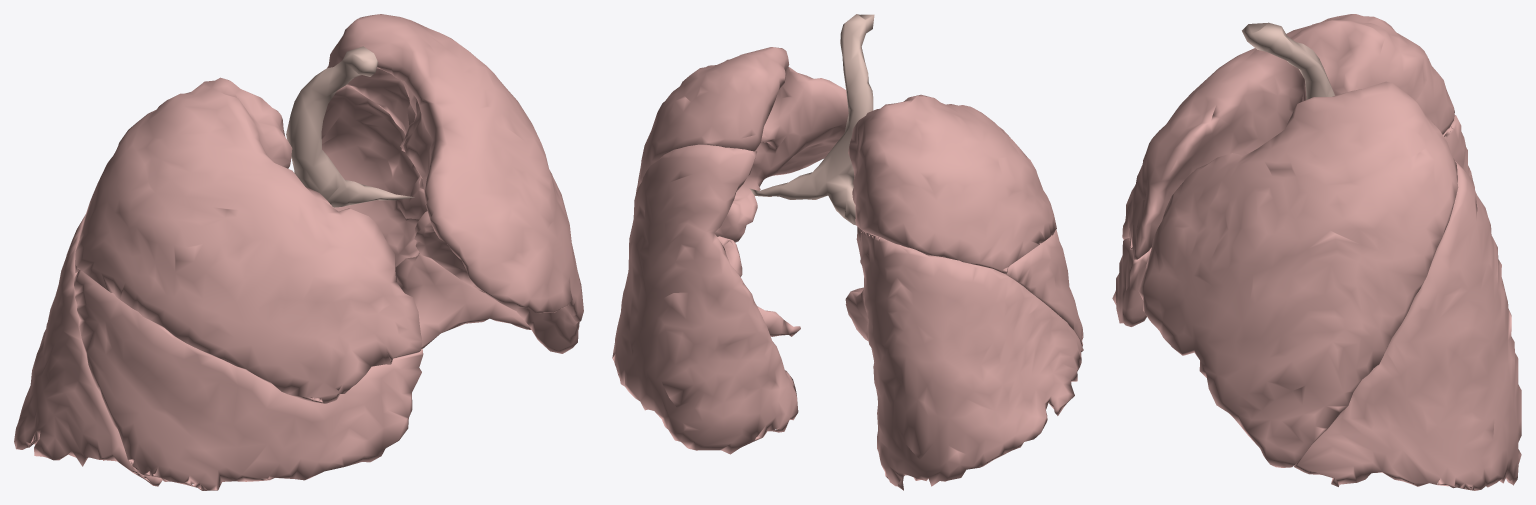
File: tsd_s0196_older_adult_female.respiratory.LOD3.glb
3 views of the same model, side by side, from view 1: azimuth 30°, elevation 25°; view 2: azimuth 150°, elevation 25°; view 3: azimuth 270°, elevation 25° (orthographic). The views are drawn at different scales.
Parts seen in each view (by area): view 1: TSD_S0196.OLDER_ADULT.FEMALE.RESPIRATORY.SUPERIOR_LOBE_OF_RI, TSD_S0196.OLDER_ADULT.FEMALE.RESPIRATORY.SUPERIOR_LOBE_OF_LE, TSD_S0196.OLDER_ADULT.FEMALE.RESPIRATORY.MIDDLE_LOBE_OF_RIGH, TSD_S0196.OLDER_ADULT.FEMALE.RESPIRATORY.INFERIOR_LOBE_OF_LE, TSD_S0196.OLDER_ADULT.FEMALE.RESPIRATORY.INFERIOR_LOBE_OF_RI, TSD_S0196.OLDER_ADULT.FEMALE.RESPIRATORY.TRACHEA; view 2: TSD_S0196.OLDER_ADULT.FEMALE.RESPIRATORY.INFERIOR_LOBE_OF_RI, TSD_S0196.OLDER_ADULT.FEMALE.RESPIRATORY.INFERIOR_LOBE_OF_LE, TSD_S0196.OLDER_ADULT.FEMALE.RESPIRATORY.SUPERIOR_LOBE_OF_RI, TSD_S0196.OLDER_ADULT.FEMALE.RESPIRATORY.SUPERIOR_LOBE_OF_LE, TSD_S0196.OLDER_ADULT.FEMALE.RESPIRATORY.TRACHEA, TSD_S0196.OLDER_ADULT.FEMALE.RESPIRATORY.MIDDLE_LOBE_OF_RIGH; view 3: TSD_S0196.OLDER_ADULT.FEMALE.RESPIRATORY.SUPERIOR_LOBE_OF_LE, TSD_S0196.OLDER_ADULT.FEMALE.RESPIRATORY.INFERIOR_LOBE_OF_LE, TSD_S0196.OLDER_ADULT.FEMALE.RESPIRATORY.SUPERIOR_LOBE_OF_RI, TSD_S0196.OLDER_ADULT.FEMALE.RESPIRATORY.TRACHEA, TSD_S0196.OLDER_ADULT.FEMALE.RESPIRATORY.MIDDLE_LOBE_OF_RIGH, TSD_S0196.OLDER_ADULT.FEMALE.RESPIRATORY.INFERIOR_LOBE_OF_RI.
Part boxes in pixels (box(x1,y1,x2,y2)): TSD_S0196.OLDER_ADULT.FEMALE.RESPIRATORY.SUPERIOR_LOBE_OF_RI: box(75, 77, 422, 403); TSD_S0196.OLDER_ADULT.FEMALE.RESPIRATORY.SUPERIOR_LOBE_OF_LE: box(327, 14, 583, 353); TSD_S0196.OLDER_ADULT.FEMALE.RESPIRATORY.MIDDLE_LOBE_OF_RIGH: box(74, 270, 423, 490); TSD_S0196.OLDER_ADULT.FEMALE.RESPIRATORY.INFERIOR_LOBE_OF_LE: box(321, 85, 531, 348); TSD_S0196.OLDER_ADULT.FEMALE.RESPIRATORY.INFERIOR_LOBE_OF_RI: box(14, 214, 162, 486); TSD_S0196.OLDER_ADULT.FEMALE.RESPIRATORY.TRACHEA: box(286, 46, 414, 207); TSD_S0196.OLDER_ADULT.FEMALE.RESPIRATORY.INFERIOR_LOBE_OF_RI: box(845, 226, 1083, 490); TSD_S0196.OLDER_ADULT.FEMALE.RESPIRATORY.INFERIOR_LOBE_OF_LE: box(612, 144, 800, 454); TSD_S0196.OLDER_ADULT.FEMALE.RESPIRATORY.SUPERIOR_LOBE_OF_RI: box(848, 94, 1056, 273); TSD_S0196.OLDER_ADULT.FEMALE.RESPIRATORY.SUPERIOR_LOBE_OF_LE: box(636, 47, 848, 242); TSD_S0196.OLDER_ADULT.FEMALE.RESPIRATORY.TRACHEA: box(749, 14, 874, 224); TSD_S0196.OLDER_ADULT.FEMALE.RESPIRATORY.MIDDLE_LOBE_OF_RIGH: box(1003, 230, 1083, 347); TSD_S0196.OLDER_ADULT.FEMALE.RESPIRATORY.SUPERIOR_LOBE_OF_LE: box(1138, 81, 1458, 467); TSD_S0196.OLDER_ADULT.FEMALE.RESPIRATORY.INFERIOR_LOBE_OF_LE: box(1294, 161, 1521, 490); TSD_S0196.OLDER_ADULT.FEMALE.RESPIRATORY.SUPERIOR_LOBE_OF_RI: box(1122, 14, 1454, 259); TSD_S0196.OLDER_ADULT.FEMALE.RESPIRATORY.TRACHEA: box(1242, 22, 1335, 99); TSD_S0196.OLDER_ADULT.FEMALE.RESPIRATORY.MIDDLE_LOBE_OF_RIGH: box(1112, 238, 1151, 326); TSD_S0196.OLDER_ADULT.FEMALE.RESPIRATORY.INFERIOR_LOBE_OF_RI: box(1443, 115, 1474, 188).
Bounding box in the file's own units: 0.255 × 0.2137 × 0.1833.
